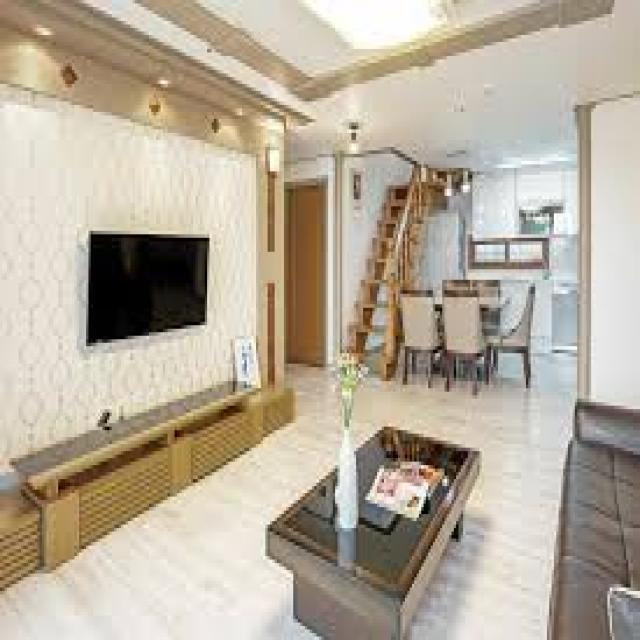Chair: (446, 293, 492, 398), (492, 284, 540, 382), (398, 288, 442, 389)
Sofa: (551, 395, 640, 636)
Table: (266, 425, 484, 636)
tv: (86, 228, 210, 349)
